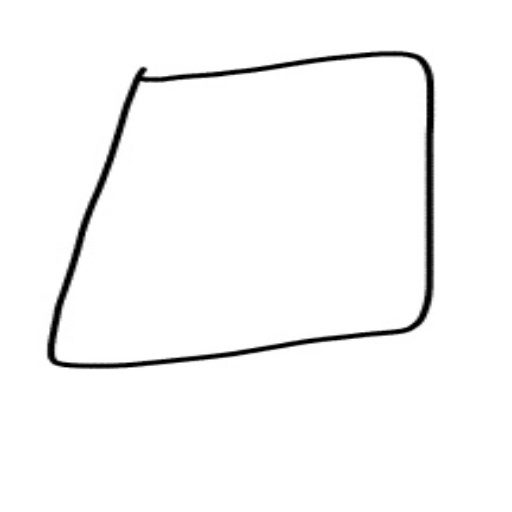square: (41, 50, 446, 373)
